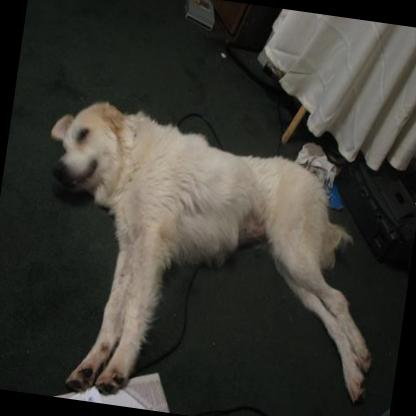Great_Pyrenees: (13, 92, 401, 416)
